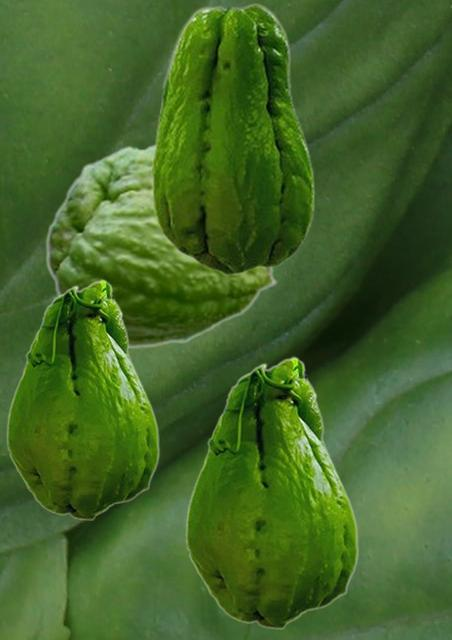sayote: (45, 143, 278, 349), (185, 356, 358, 629), (151, 2, 314, 275), (6, 279, 159, 520)
